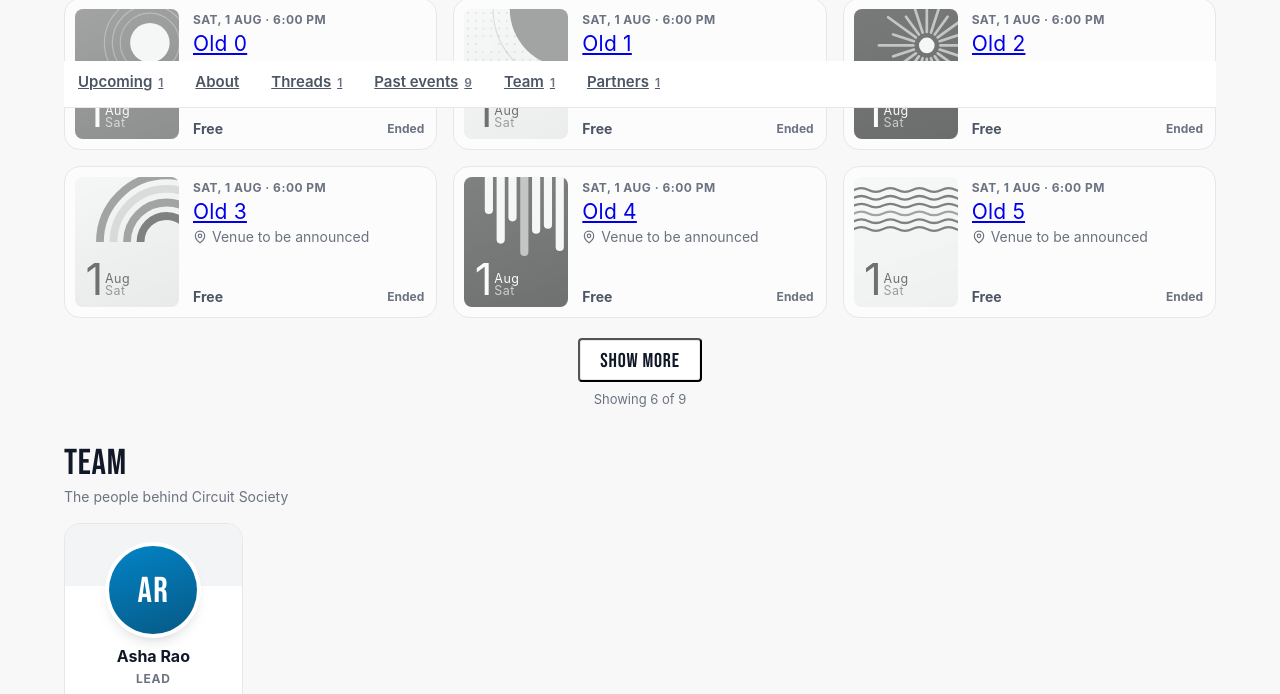
a club's page › drops Show more where the API has no list of a club's events
(page scrolled)
Click the button "Show more".
click(640, 360)  # box [578, 338, 702, 382]
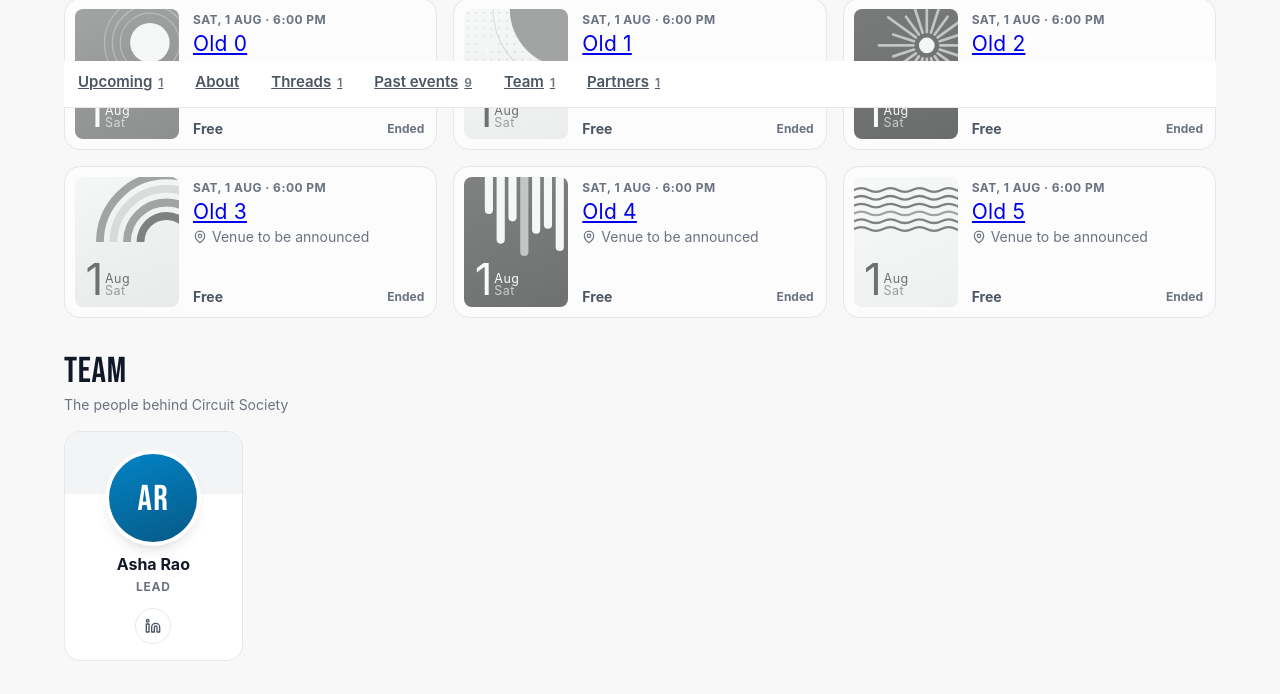
Result: the button "Show more" is gone
Result: the text "Showing" is gone
